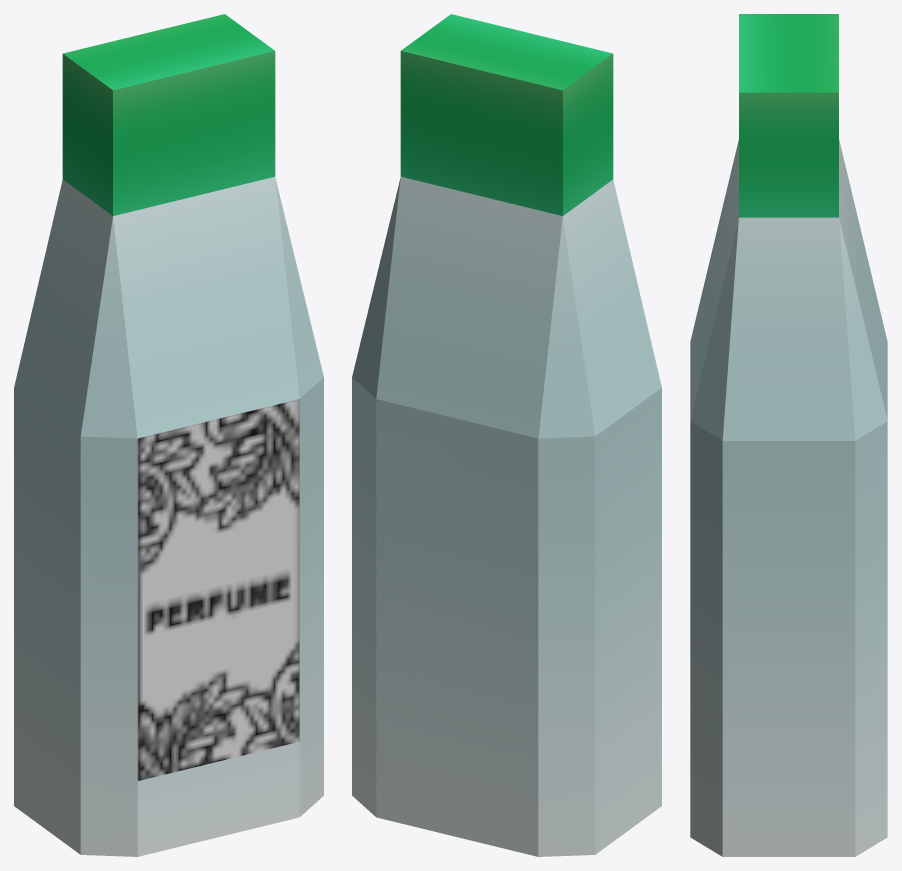
The model's file is giftgoods108e.fbx.
The picture shows the model from 3 angles, left to right: view 1: azimuth 30°, elevation 25°; view 2: azimuth 150°, elevation 25°; view 3: azimuth 270°, elevation 25°; orthographic projection.
Parts seen in each view (by area): view 1: giftgoods108e; view 2: giftgoods108e; view 3: giftgoods108e.
Part boxes in pixels (x1,y1,x2,y2): giftgoods108e: [14, 14, 323, 856]; giftgoods108e: [352, 14, 661, 856]; giftgoods108e: [690, 14, 887, 856].
Size of the model in its own units: 0.0443 by 0.1303 by 0.0313.
